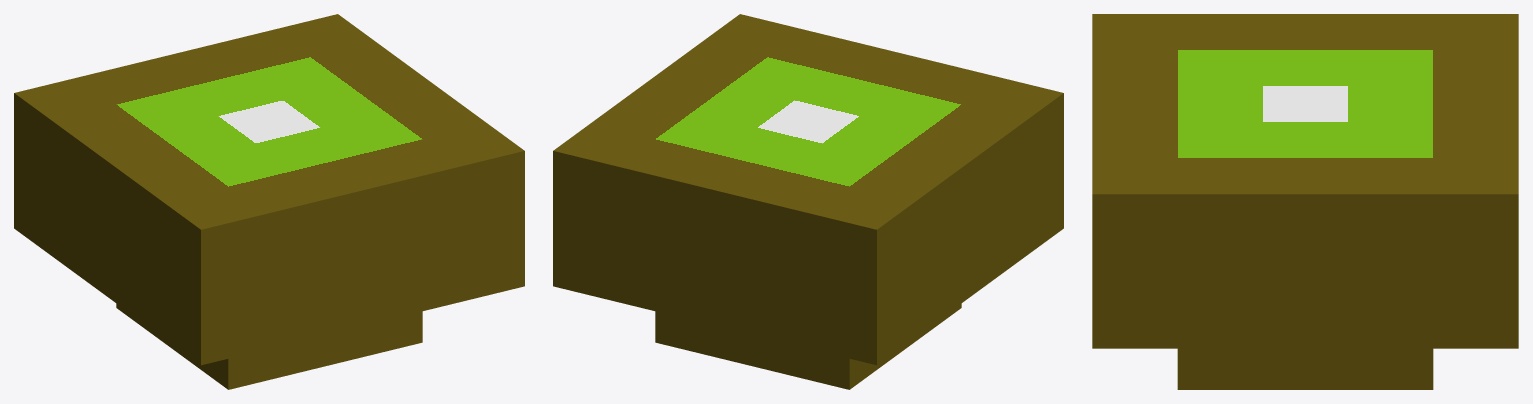
File: item_kiwi.fbx
3 views of the same model, side by side, from view 1: azimuth 30°, elevation 25°; view 2: azimuth 150°, elevation 25°; view 3: azimuth 270°, elevation 25° (orthographic). The views are drawn at different scales.
Visible parts, largest first — view 1: item_kiwi; view 2: item_kiwi; view 3: item_kiwi.
Boxes of the visible parts, left/top/right/bottom form: item_kiwi: left=14, top=14, right=524, bottom=389; item_kiwi: left=553, top=14, right=1063, bottom=389; item_kiwi: left=1092, top=14, right=1518, bottom=389.
Bounding box in the file's own units: 5 × 3 × 5.
